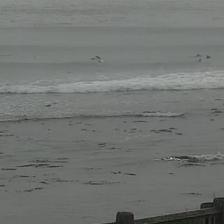surfer: (91, 55, 101, 59), (195, 53, 202, 57), (195, 58, 202, 62), (206, 54, 211, 58)
